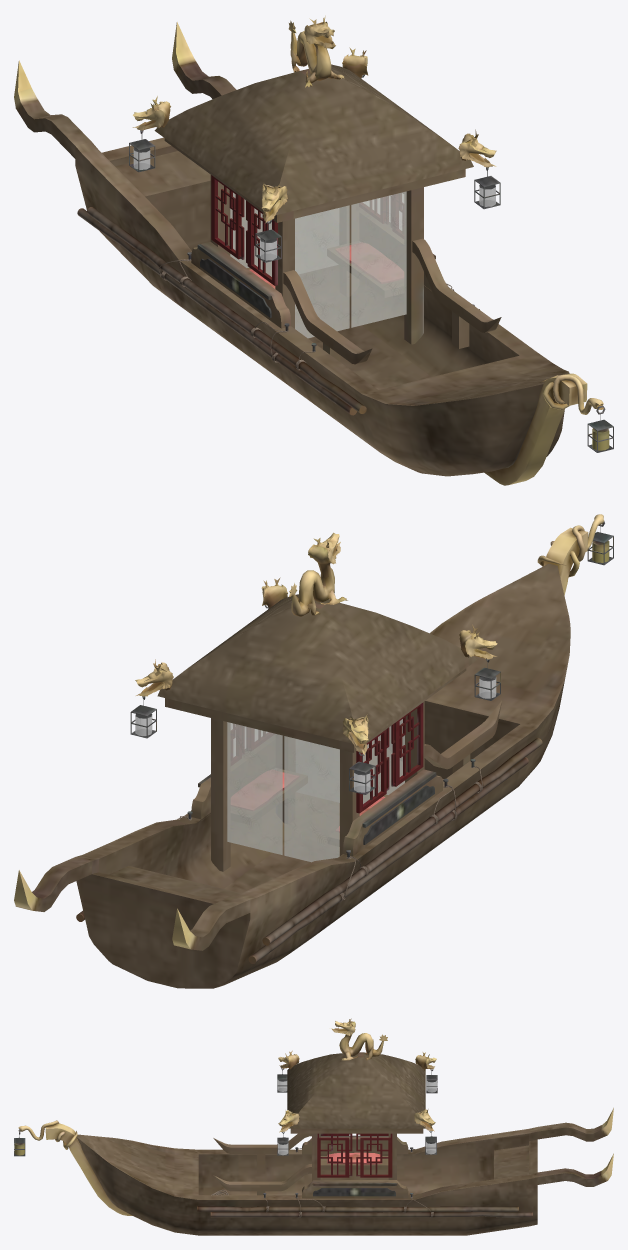
File: boat.glb
3 renders of one model, top to bottom at view 1: azimuth 30°, elevation 25°; view 2: azimuth 150°, elevation 25°; view 3: azimuth 270°, elevation 25°, orthographic. The views are drawn at different scales.
Visible parts, largest first — view 1: Ship_Boat_0, Ship_Curtains_0; view 2: Ship_Boat_0, Ship_Curtains_0; view 3: Ship_Boat_0, Ship_Curtains_0.
Part boxes in pixels (bbox=[...]): Ship_Boat_0: bbox=[14, 15, 613, 485]; Ship_Curtains_0: bbox=[133, 149, 495, 338]; Ship_Boat_0: bbox=[14, 514, 613, 988]; Ship_Curtains_0: bbox=[135, 677, 496, 862]; Ship_Boat_0: bbox=[14, 1018, 613, 1235]; Ship_Curtains_0: bbox=[277, 1080, 436, 1155].
Size of the model in its own units: 6.24 by 8.79 by 23.2.
Materials: 3 (3 with a texture image).
